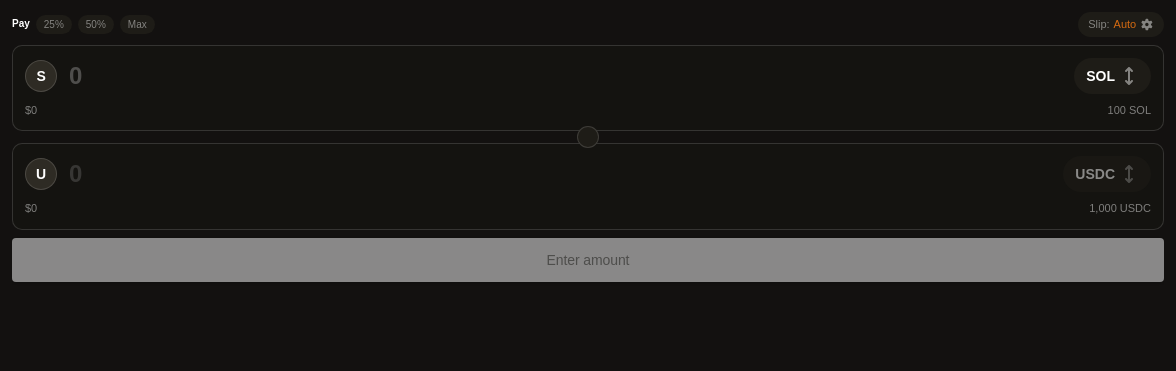
SwapWidget › Swap Execution › should handle swap error
Type "10" into the field named "enter sol amount" at (566, 76), box [69, 60, 1062, 92]
Wait 500 ms
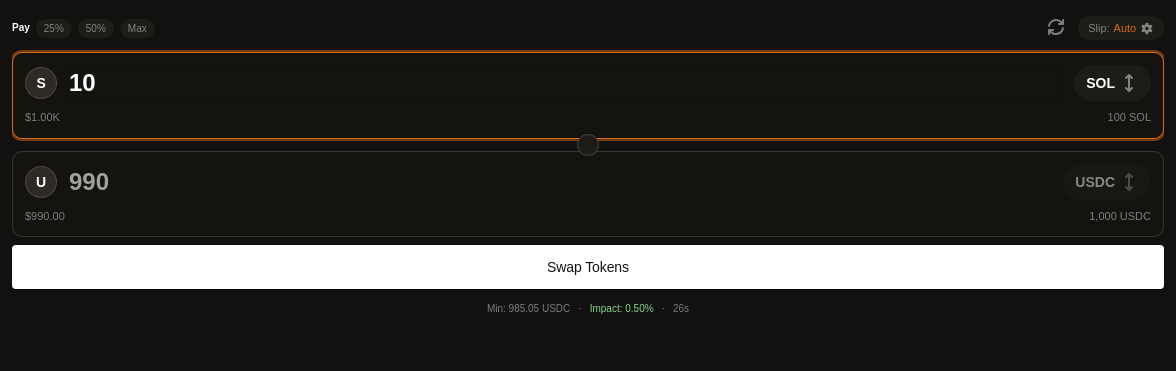
Expected: the button "Swap Tokens" is enabled
Click the button "Swap Tokens" at (588, 267), box [12, 245, 1164, 289]
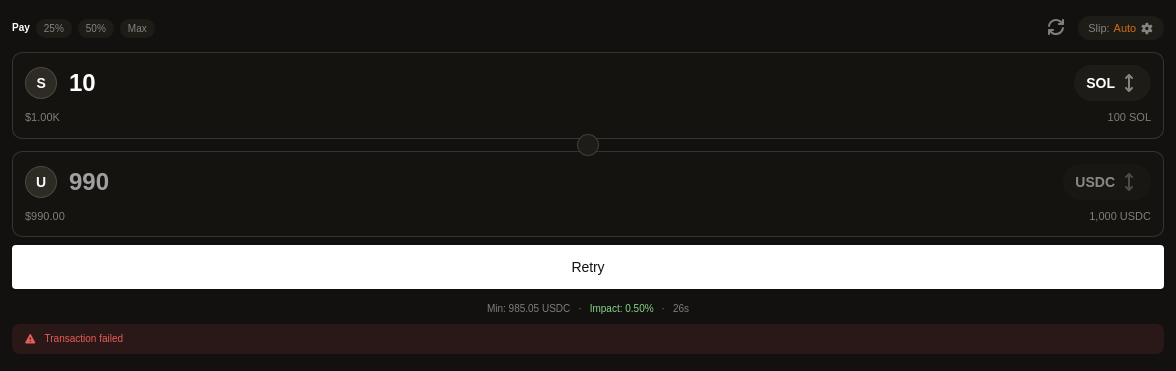
Expected: the text "Transaction failed" is shown, [12, 324, 1164, 354]
